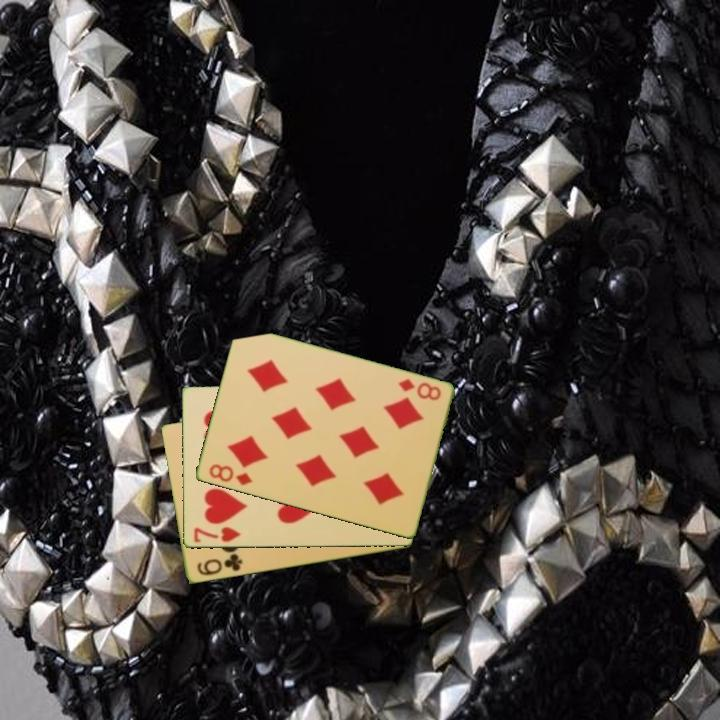6c: (193, 551, 245, 579)
7h: (190, 524, 243, 545)
8d: (395, 375, 444, 404), (205, 461, 255, 489)
